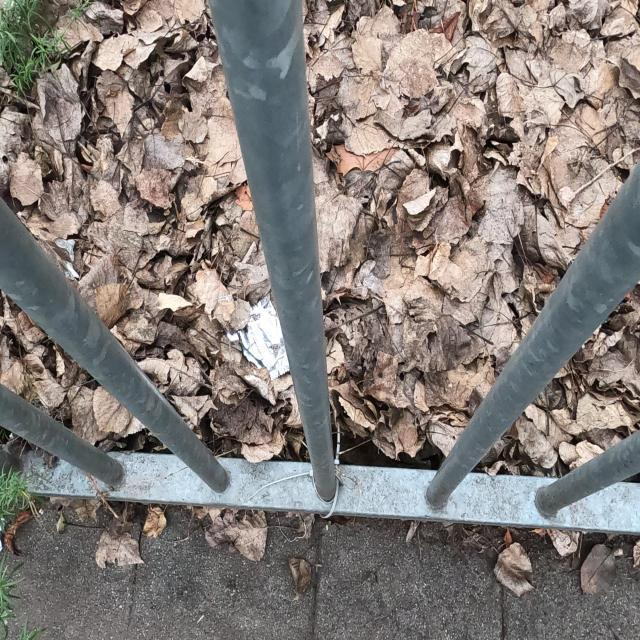Plastic: (217, 293, 290, 382)
